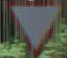Give way: (2, 1, 60, 50)
